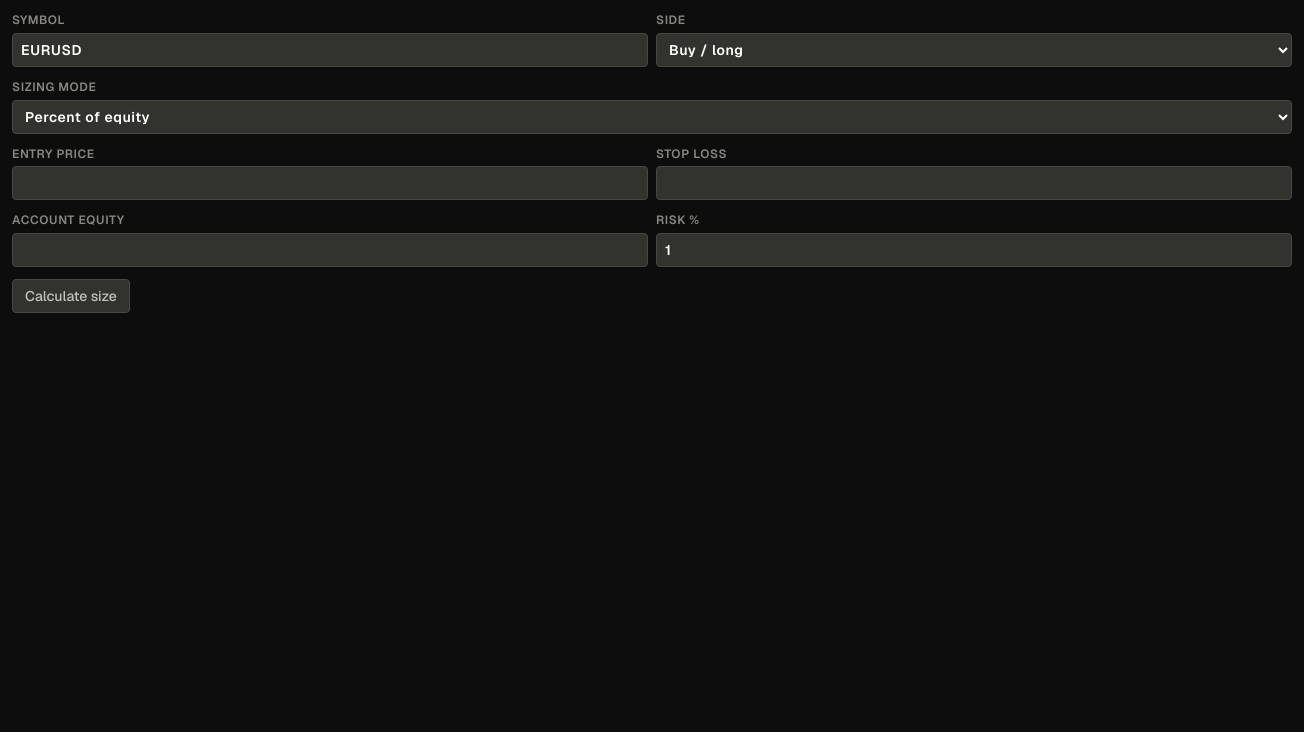
Test: SizingCalculator › displays the backend's figures verbatim and computes none of its own
Type "1.10000" into the field labelled "Entry price".
click(330, 183); type("1.10000")  # box [12, 166, 648, 200]
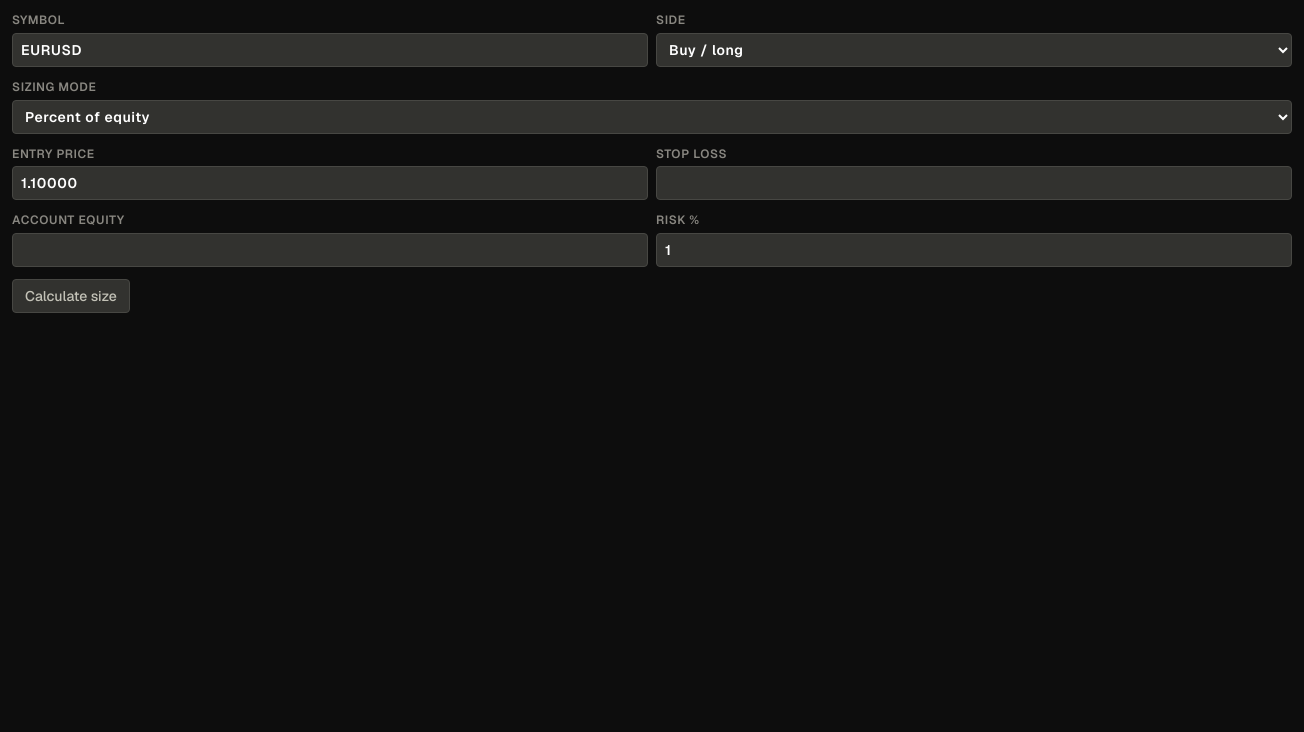
Type "1.09500" into the field labelled "Stop loss".
click(974, 183); type("1.09500")  # box [656, 166, 1292, 200]
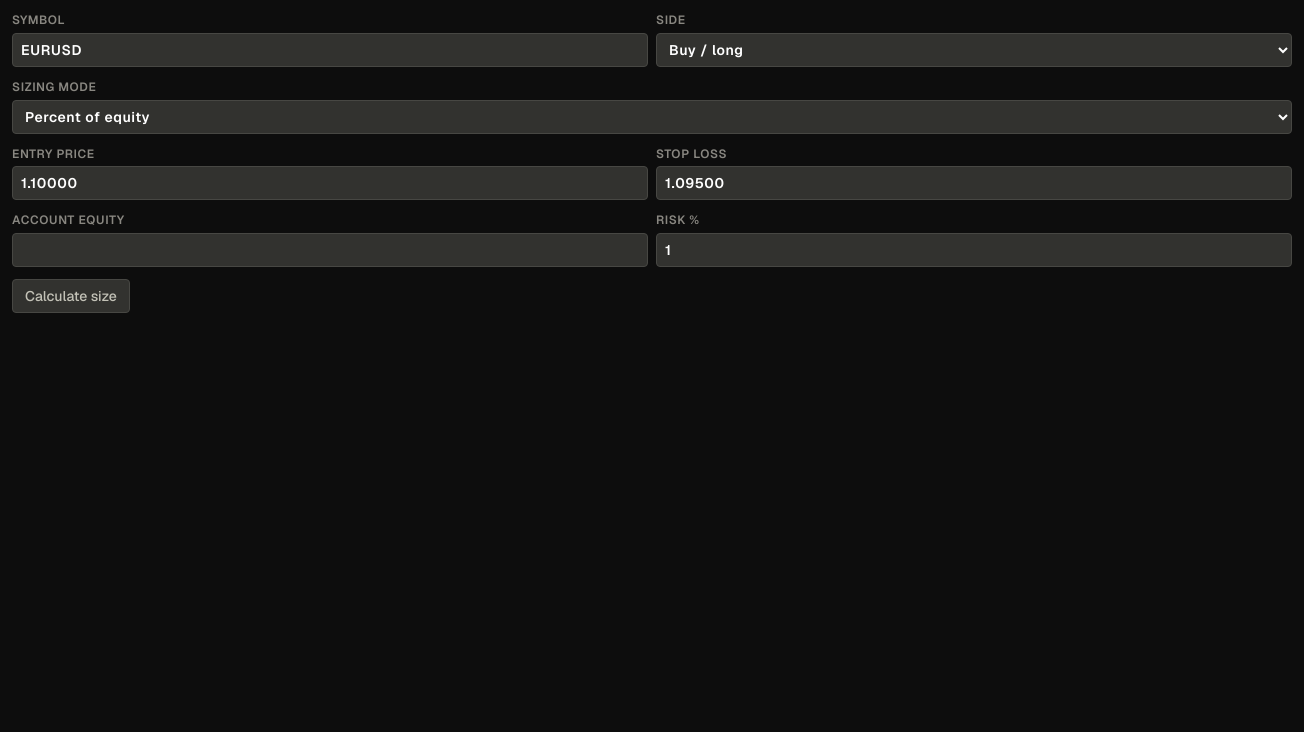
Type "10000" into the field labelled "Account equity".
click(330, 250); type("10000")  # box [12, 233, 648, 267]
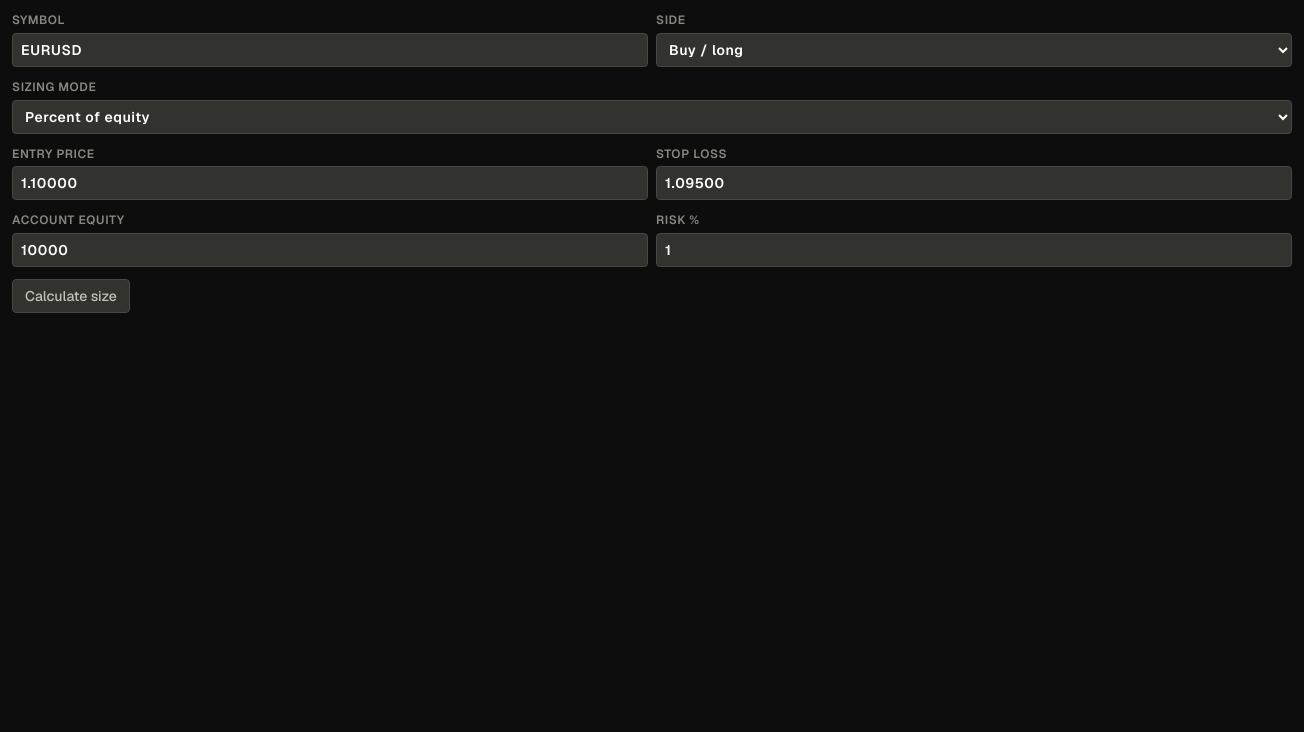
Click the button "Calculate size".
click(71, 296)  # box [12, 279, 130, 313]
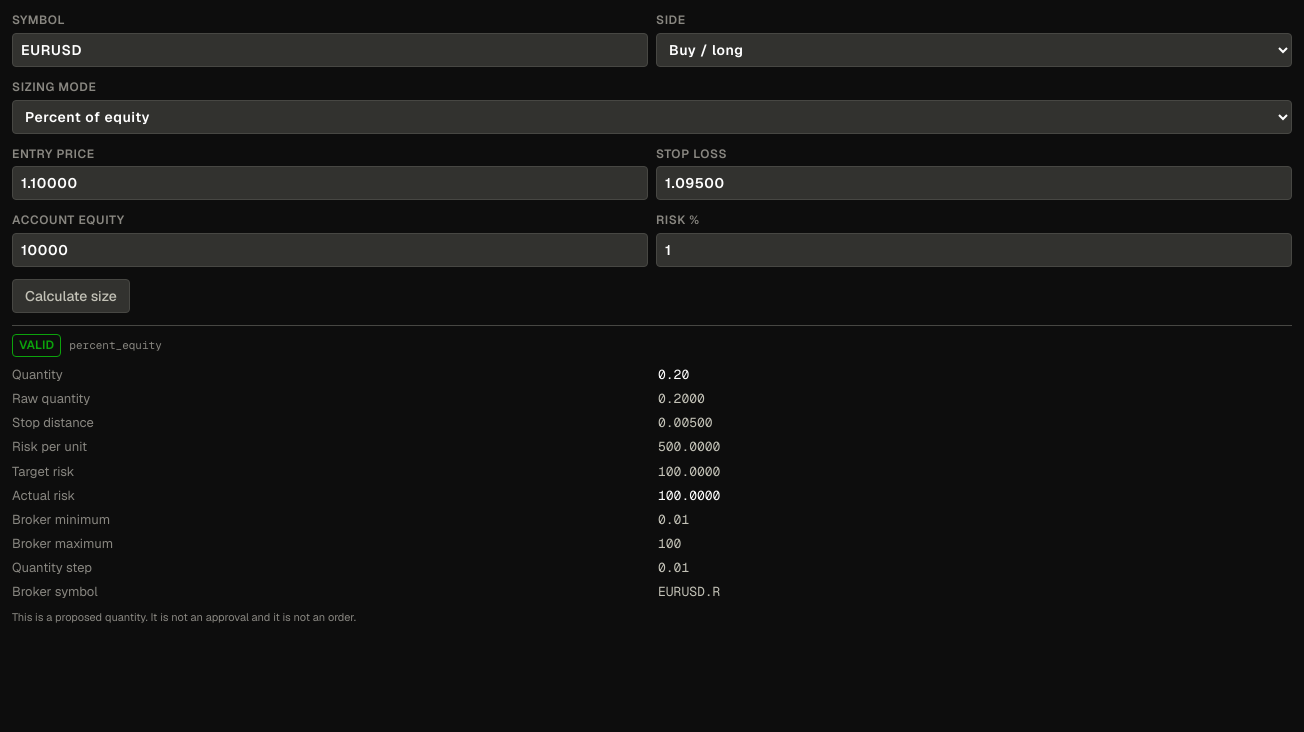
Check: the text "VALID" is shown, box [12, 334, 61, 357]
Check: the text "0.20" is shown, box [658, 366, 689, 383]
Check: the text "0.00500" is shown, box [658, 414, 713, 431]
